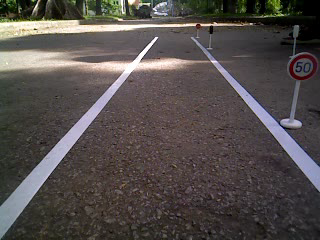limit 50: (286, 49, 319, 82)
